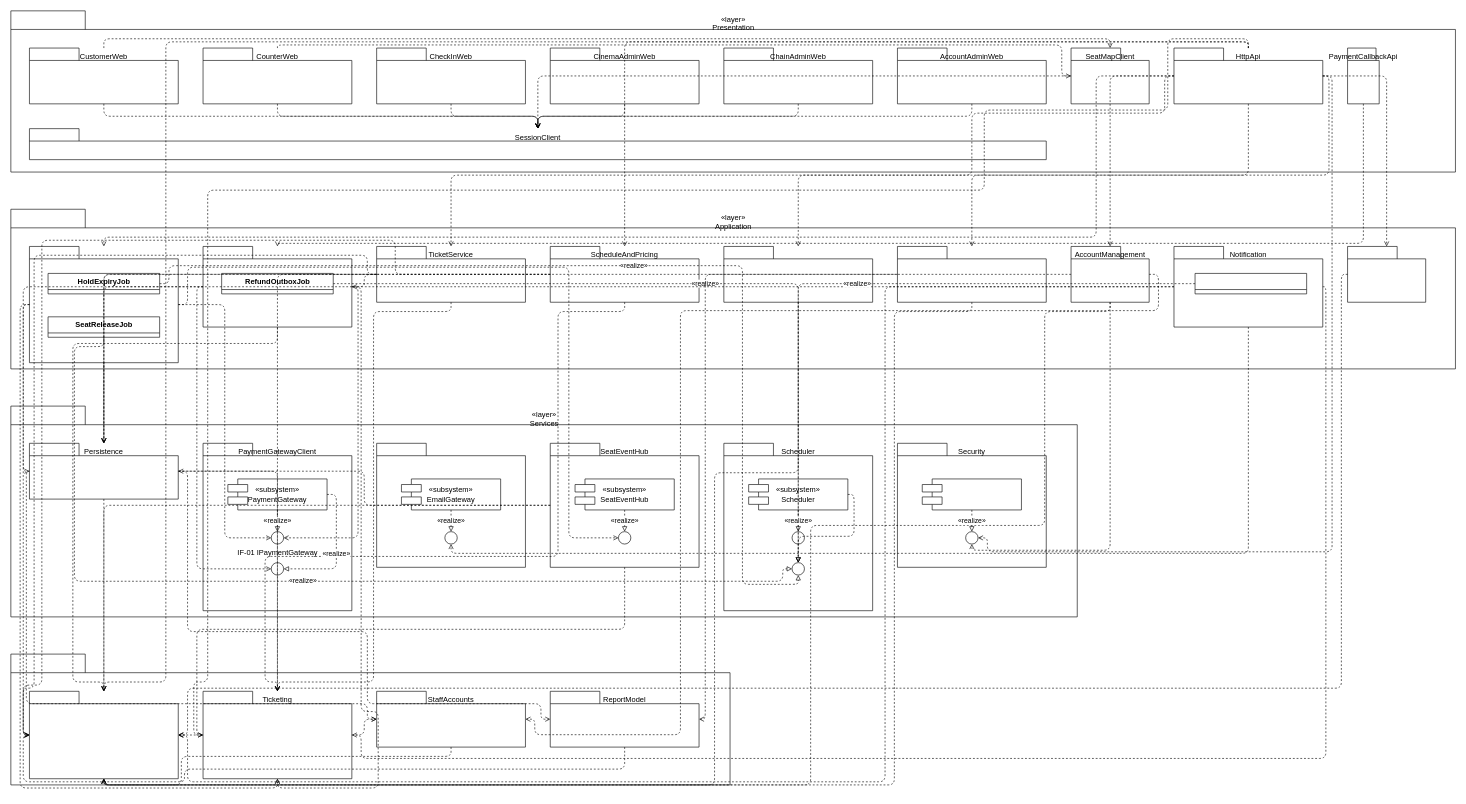
Image size: 1466x804. Some labels were removed from this diagram. Each missing label, with the box of its shape:
Catalog: (723, 246, 873, 302)
ChainManagement: (1347, 246, 1426, 302)
CinemaOperations: (29, 691, 178, 779)
EmailGatewayClient: (376, 443, 525, 567)
EmailOutboxJob: (1194, 273, 1307, 294)
IF-02 IPaymentReportReceiver: (271, 562, 284, 575)
IF-03 IEmailSender: (444, 531, 457, 544)
IF-04 ISeatEventSubscription: (618, 531, 631, 544)
IF-05 IJobScheduler: (791, 531, 804, 544)
IF-06 IScheduledJob: (791, 562, 804, 575)
IF-07 IAuthenticator: (965, 531, 978, 544)
PaymentRefund: (202, 246, 352, 327)
Reporting: (897, 246, 1046, 302)
SeatBooking: (29, 246, 178, 363)
«layer» Domain: (10, 653, 730, 785)
«subsystem» Security: (922, 478, 1021, 510)
